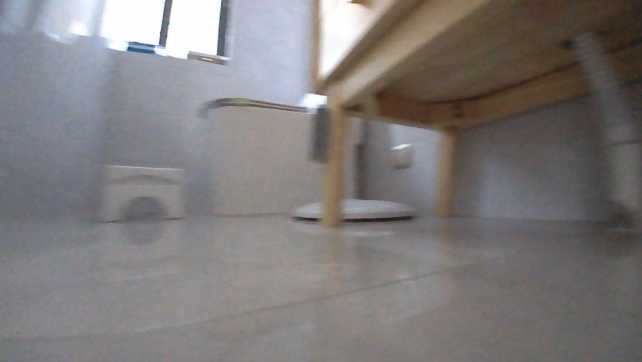chair_base: (286, 176, 415, 222)
toilet: (197, 81, 365, 216)
